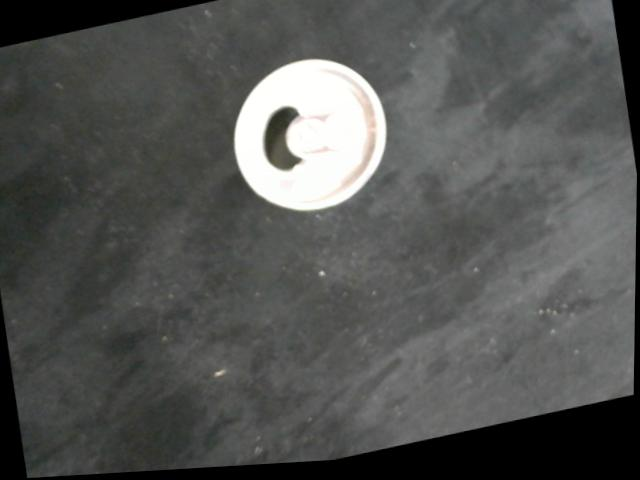can: (221, 46, 400, 233)
